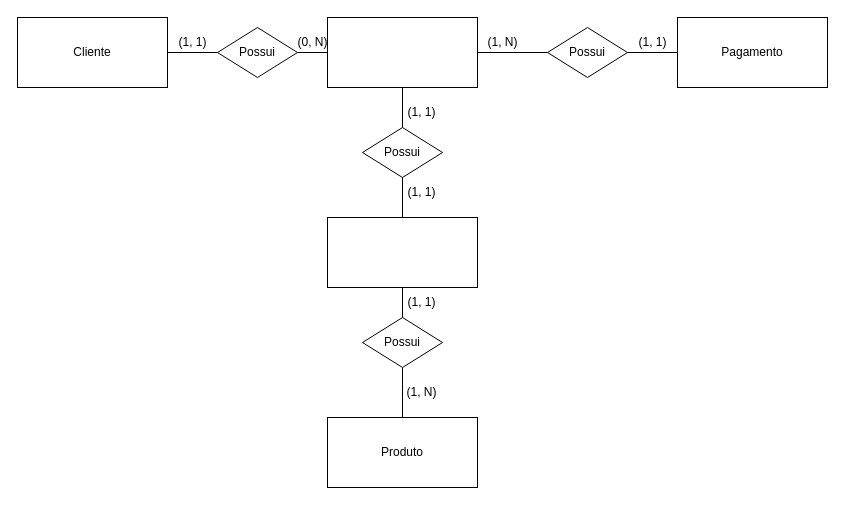
Some shapes in this 845 by 505 pixel diagram are drawn without their labels. Each missing label, with the centre of its shape:
"ItensDoPedido" goes at (x=402, y=252).
"Pedido" goes at (x=402, y=52).
